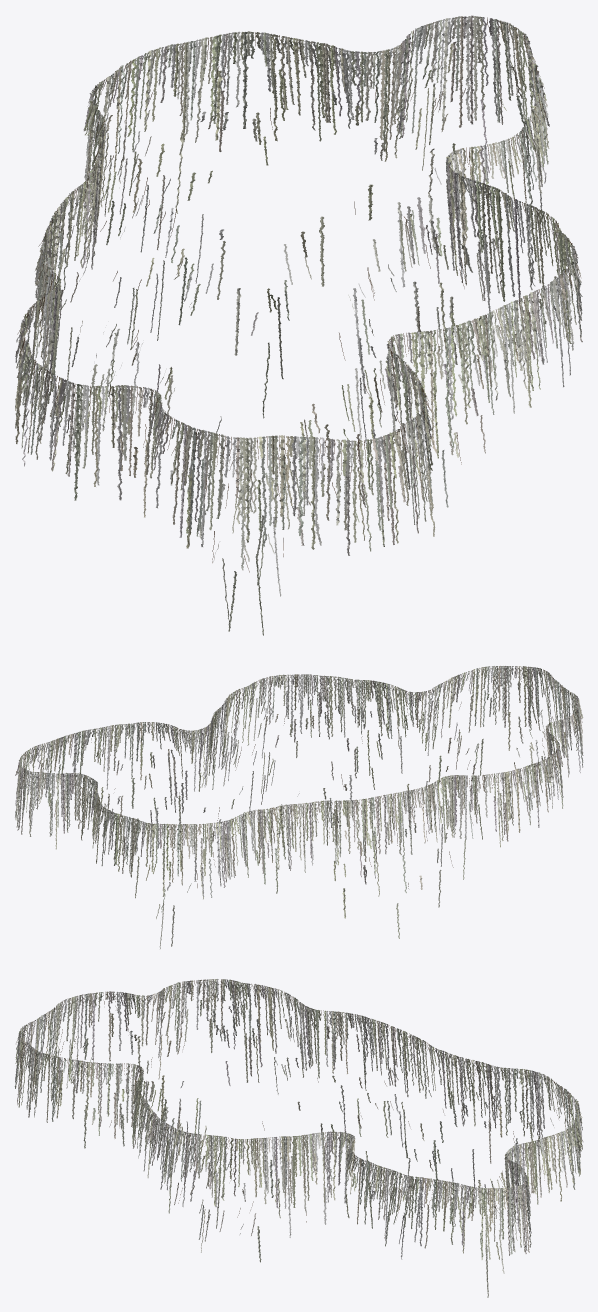
The model's file is SM_H10_Vines.fbx.
The picture shows the model from 3 angles, top to bottom: view 1: azimuth 30°, elevation 25°; view 2: azimuth 150°, elevation 25°; view 3: azimuth 270°, elevation 25°; orthographic projection. The views are drawn at different scales.
Parts seen in each view (by area): view 1: SM_H10_Vines; view 2: SM_H10_Vines; view 3: SM_H10_Vines.
Part boxes in pixels (bbox=[...]): SM_H10_Vines: bbox=[15, 15, 582, 635]; SM_H10_Vines: bbox=[15, 666, 583, 948]; SM_H10_Vines: bbox=[14, 979, 583, 1297].
Bounding box in the file's own units: 195 × 92.15 × 219.
